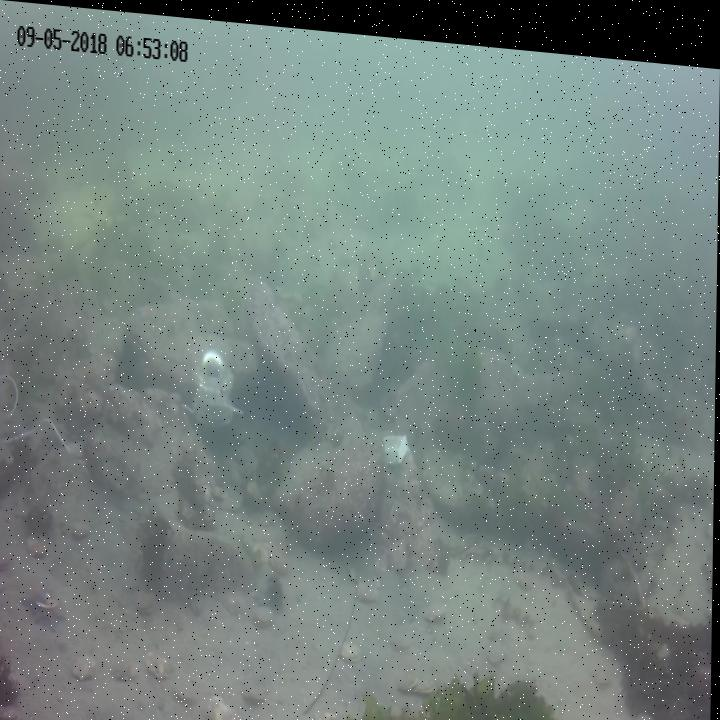echinus: (266, 568, 290, 605)
scallop: (209, 692, 242, 720), (72, 646, 97, 681), (111, 655, 141, 679), (146, 649, 173, 675), (411, 666, 439, 687), (317, 700, 346, 720), (176, 675, 198, 699), (24, 535, 48, 556), (340, 630, 360, 655), (253, 602, 276, 623), (426, 597, 448, 617), (71, 518, 89, 537), (395, 665, 416, 681)
starfish: (26, 582, 52, 614), (34, 609, 62, 629)
